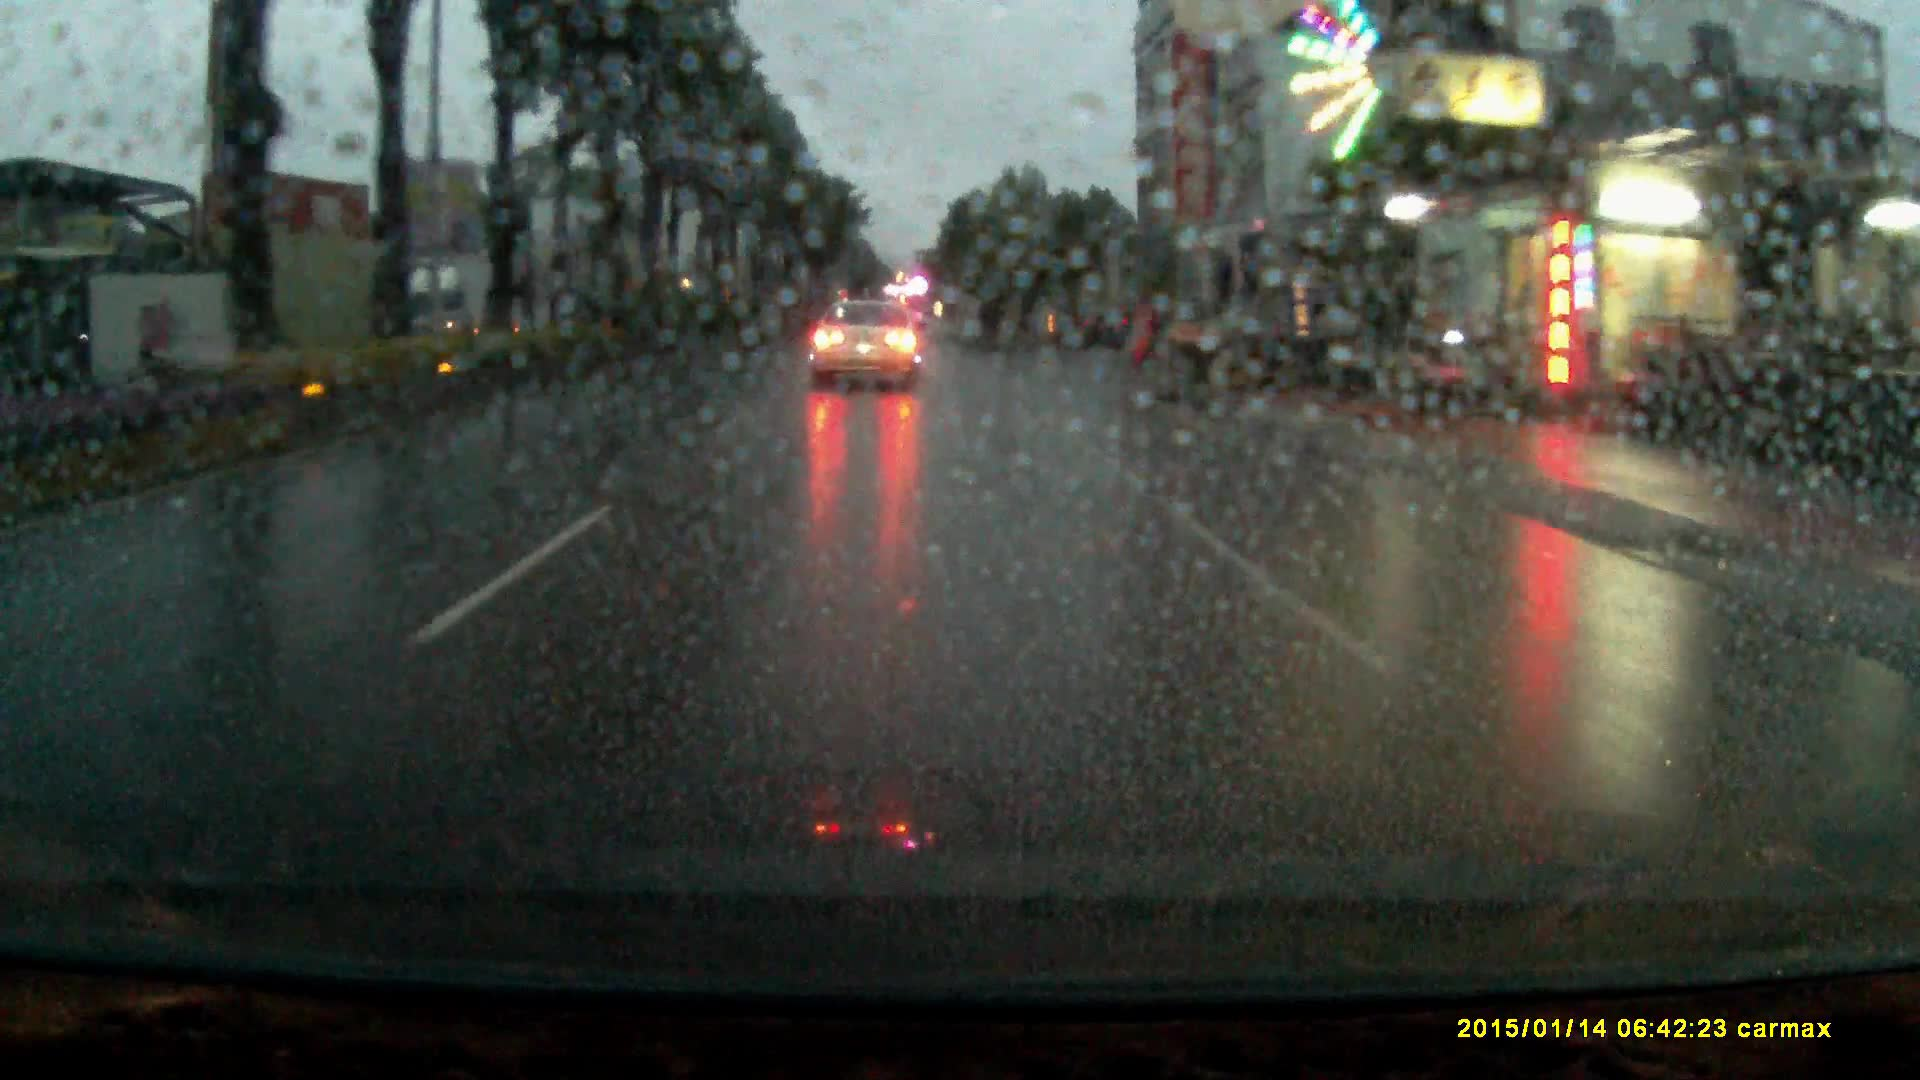vehicle: (811, 297, 919, 394), (409, 255, 524, 334), (1055, 297, 1130, 345)
